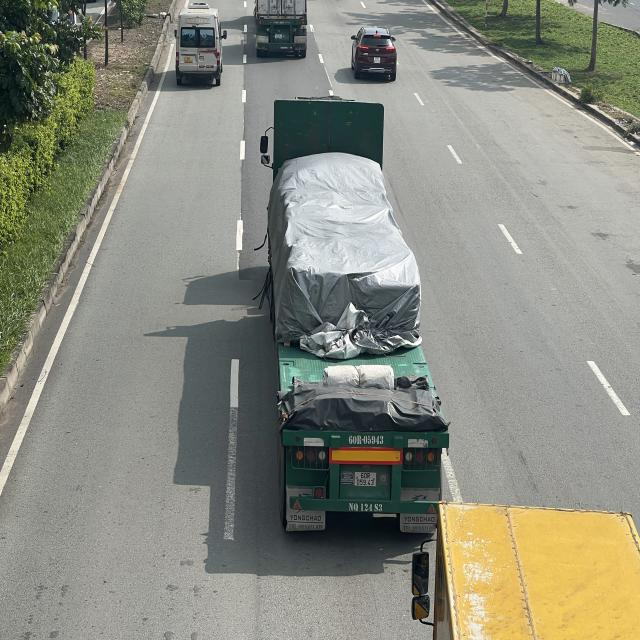car: (348, 28, 396, 81)
container: (262, 98, 457, 520), (254, 0, 308, 55)
van: (175, 3, 227, 82)
